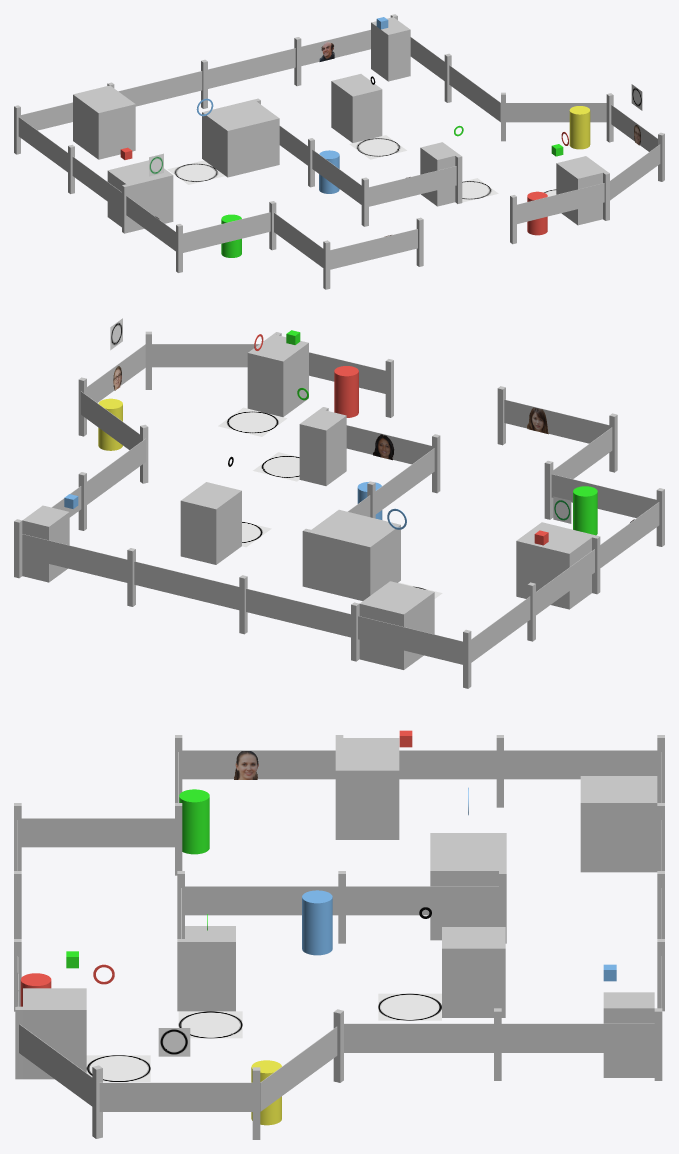
File: rins_2023_task2_final.dae
3 views of the same model, one above another, from view 1: azimuth 30°, elevation 25°; view 2: azimuth 150°, elevation 25°; view 3: azimuth 270°, elevation 25° (orthographic). The views are drawn at different scales.
Parts seen in each view (by area): view 1: rins_2022_task2_final3; view 2: rins_2022_task2_final3; view 3: rins_2022_task2_final3.
Part boxes in pixels (left/top/right/bottom): rins_2022_task2_final3: left=14, top=14, right=664, bottom=289; rins_2022_task2_final3: left=14, top=318, right=664, bottom=688; rins_2022_task2_final3: left=14, top=730, right=664, bottom=1139.
Size of the model in its own units: 6.22 by 5.1 by 0.95.
Materials: 14 (8 with a texture image).
